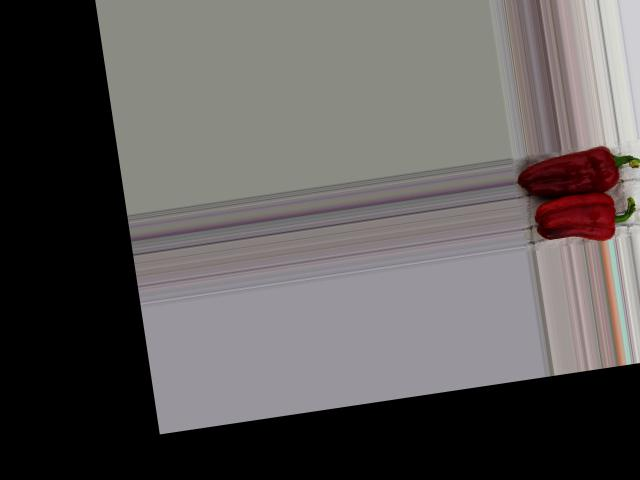bell_pepper: (514, 140, 640, 205)
